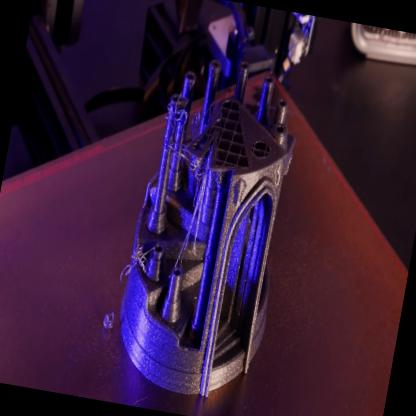fail: (120, 238, 154, 281), (186, 159, 208, 191), (185, 108, 204, 144)
